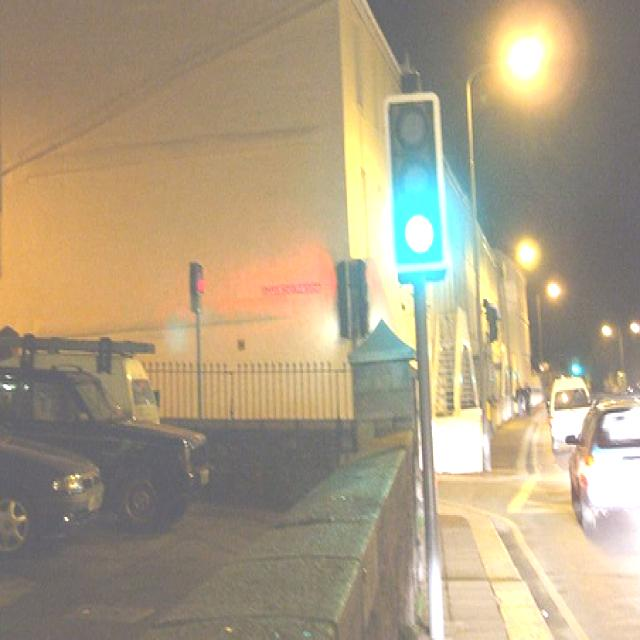Vehicle: (0, 358, 198, 522), (0, 384, 103, 558), (22, 354, 160, 434), (563, 393, 640, 530), (548, 377, 592, 453)
